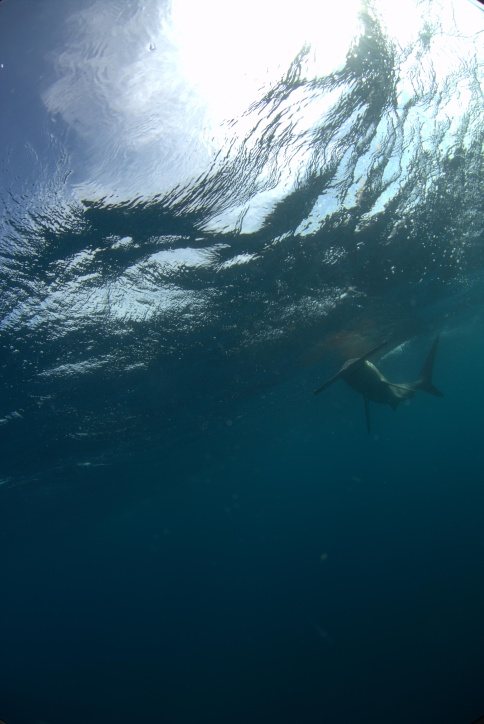Hammer: (297, 320, 473, 461)
